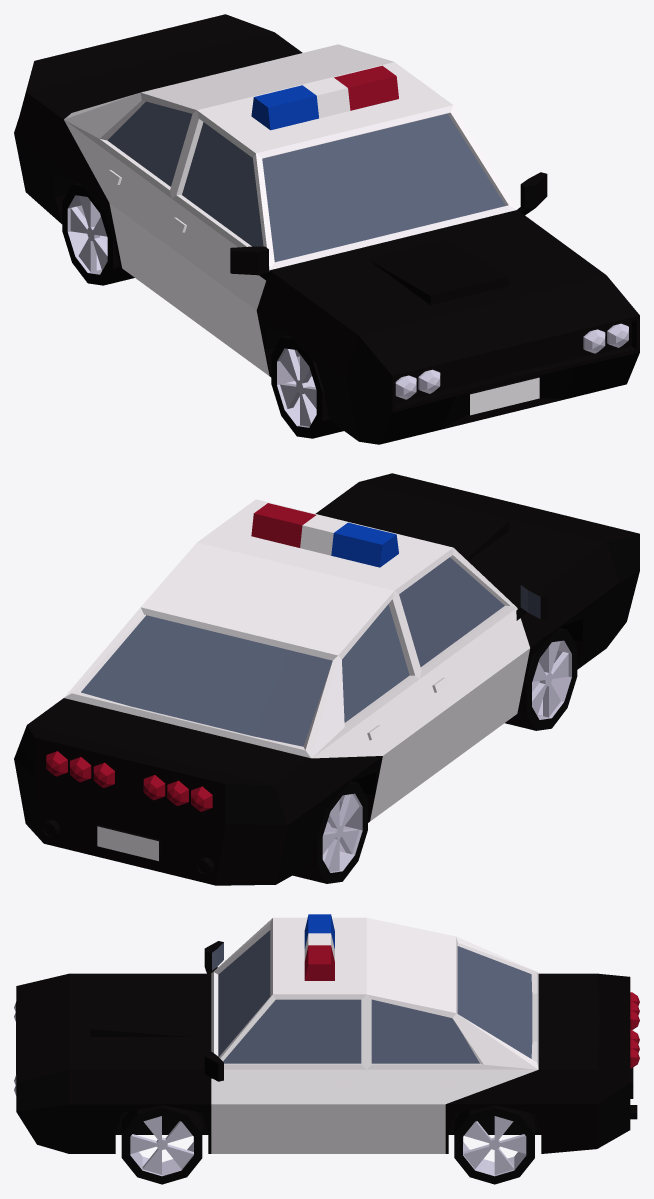
The model's file is police_muscle.glb.
The picture shows the model from 3 angles, top to bottom: view 1: azimuth 30°, elevation 25°; view 2: azimuth 150°, elevation 25°; view 3: azimuth 270°, elevation 25°; orthographic projection. The views are drawn at different scales.
Visible parts, largest first — view 1: Police Muscle_body black_0, Police Muscle_flashers siren red_0; view 2: Police Muscle_body black_0, Police Muscle_flashers siren red_0; view 3: Police Muscle_body black_0, Police Muscle_flashers siren red_0.
Part boxes in pixels (<box>): Police Muscle_body black_0: <box>14,14,639,444</box>; Police Muscle_flashers siren red_0: <box>334,65,398,110</box>; Police Muscle_body black_0: <box>14,473,639,885</box>; Police Muscle_flashers siren red_0: <box>251,503,315,547</box>; Police Muscle_body black_0: <box>14,914,639,1184</box>; Police Muscle_flashers siren red_0: <box>304,945,334,980</box>.
Size of the model in its own units: 2.81 by 2.09 by 6.06.
Materials: 2 (2 with a texture image).
